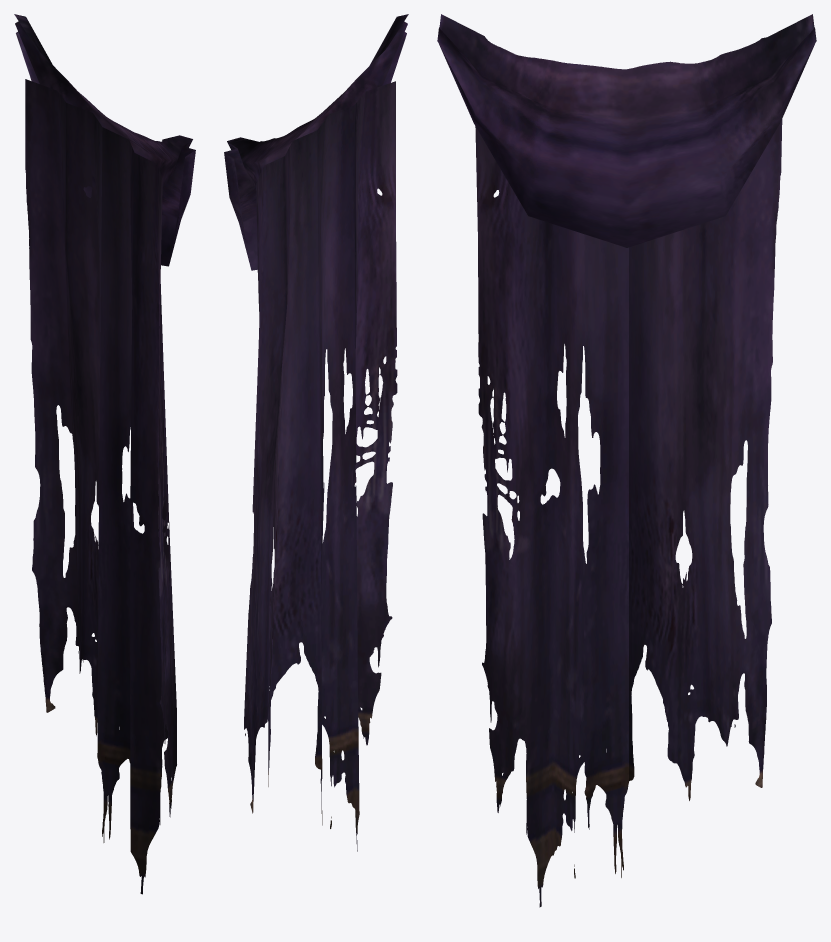
The model's file is 08_lian.FBX.
3 views of the same model, side by side, from view 1: azimuth 30°, elevation 25°; view 2: azimuth 150°, elevation 25°; view 3: azimuth 270°, elevation 25° (orthographic). The views are drawn at different scales.
Parts seen in each view (by area): view 1: Curtains; view 2: Curtains; view 3: Curtains.
Part boxes in pixels (box(x1,y1,x2,y2)): Curtains: box(14, 14, 195, 894); Curtains: box(224, 14, 408, 851); Curtains: box(437, 14, 816, 907).
Size of the model in its own units: 0.6893 by 9.04 by 3.47.
Materials: 1 (1 with a texture image).
